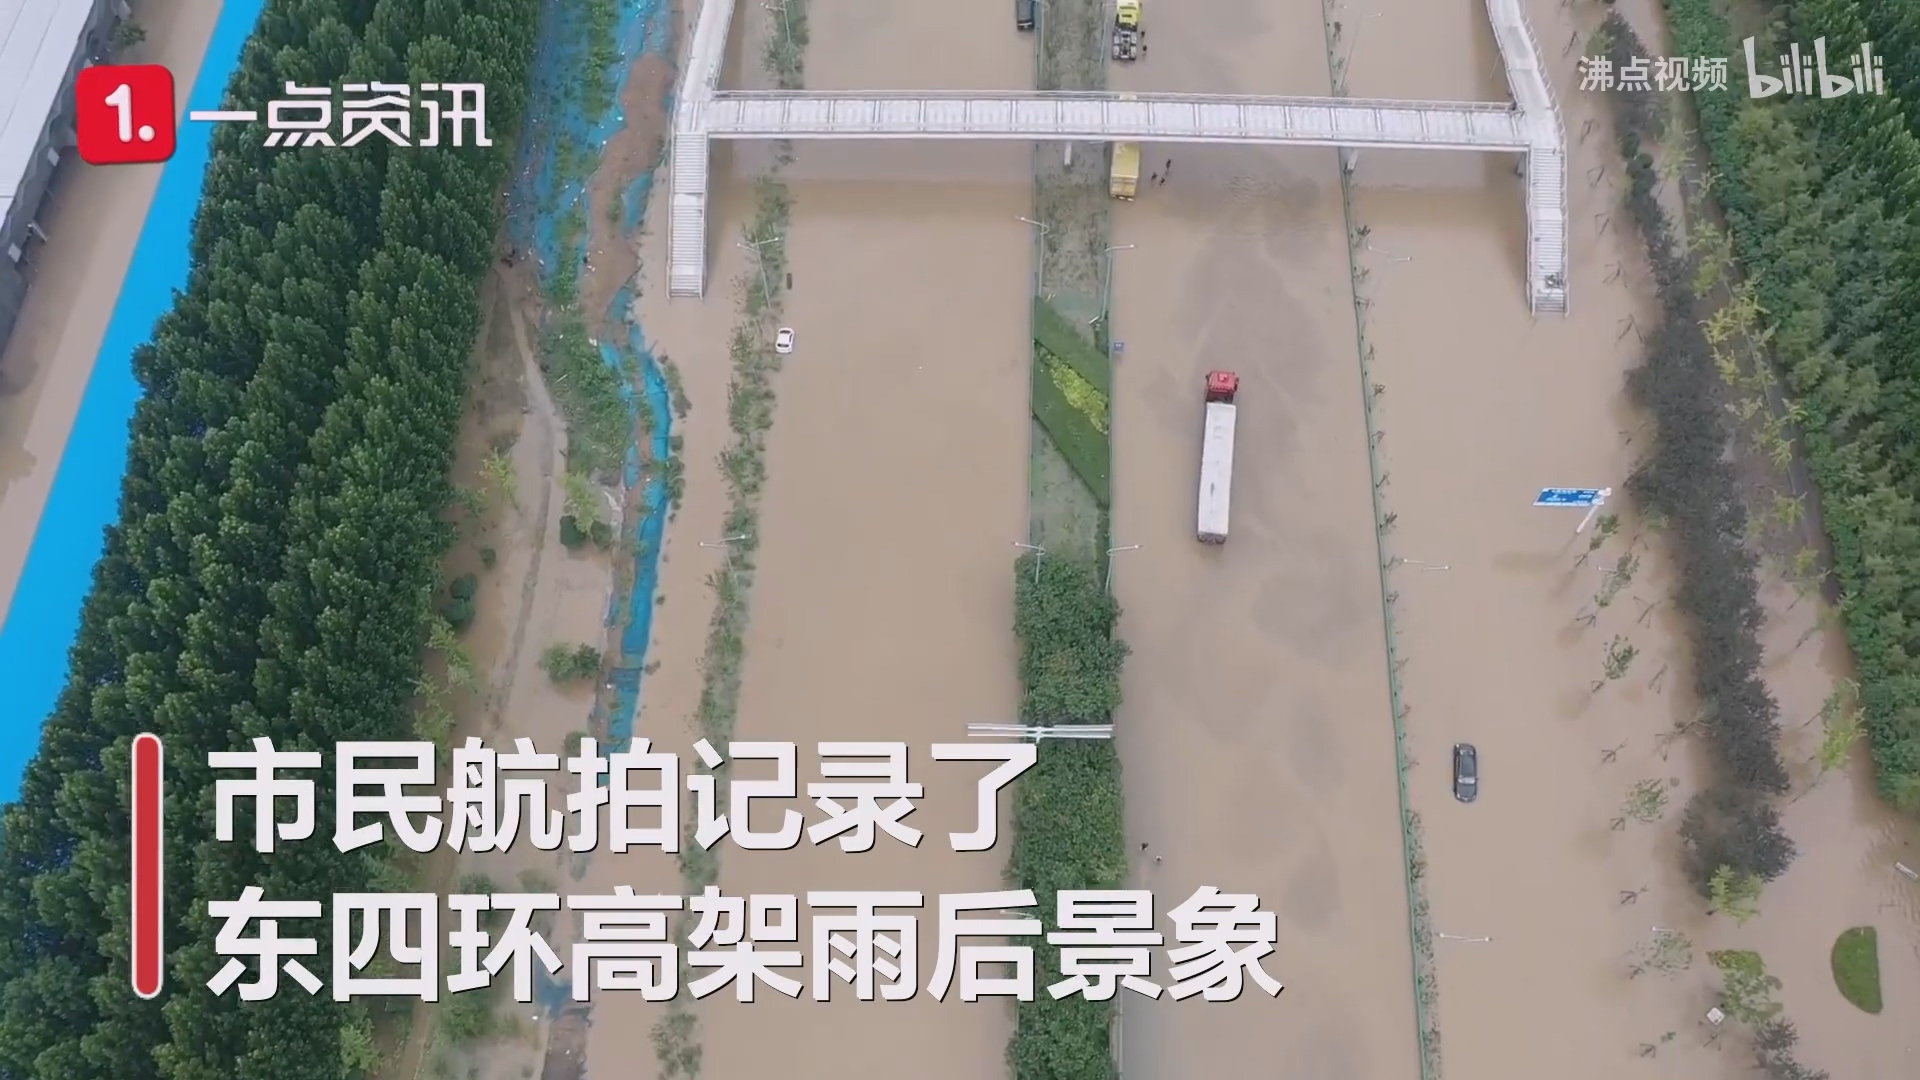puddle: (1102, 262, 1712, 878), (580, 251, 1050, 724)
